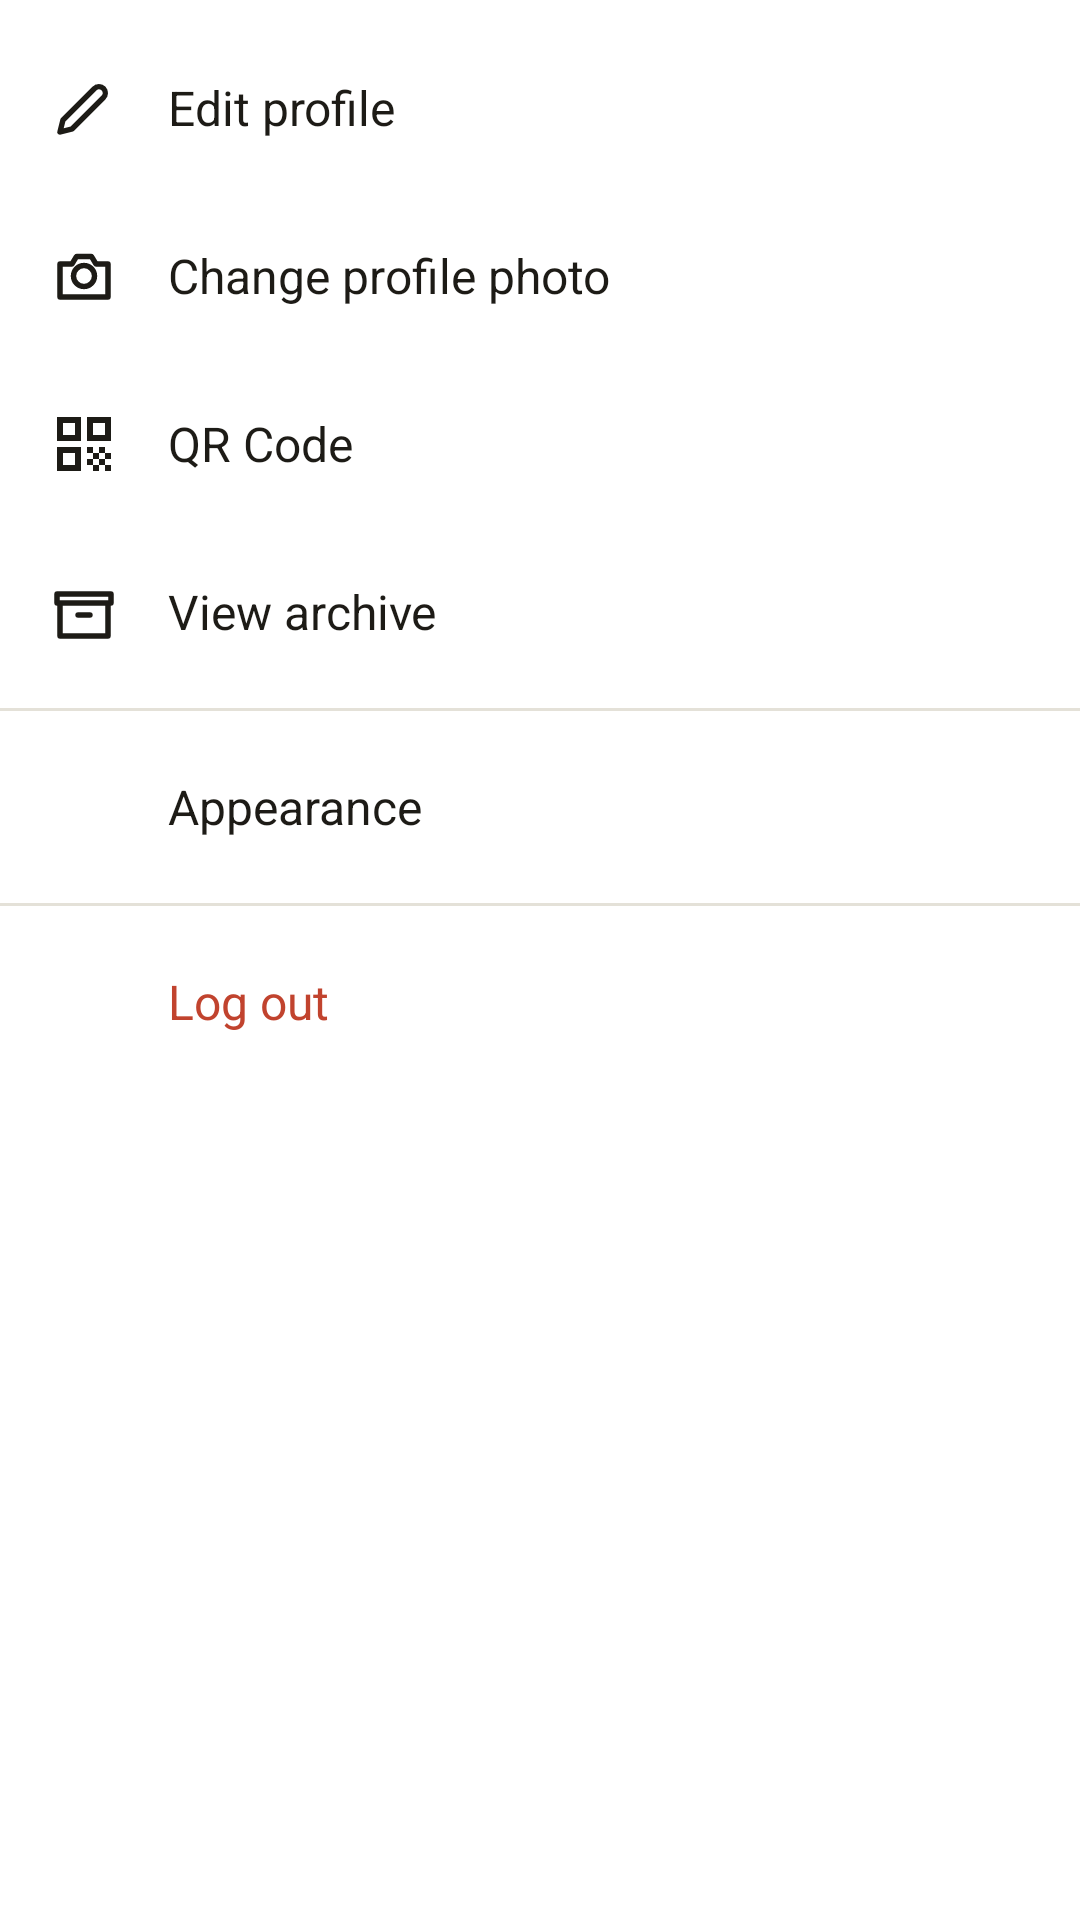

Named icons in this screenshot (1080px×1920px) and their bounding boxes, (x1, y1, x2, y2):
camera: (57, 253, 111, 300)
